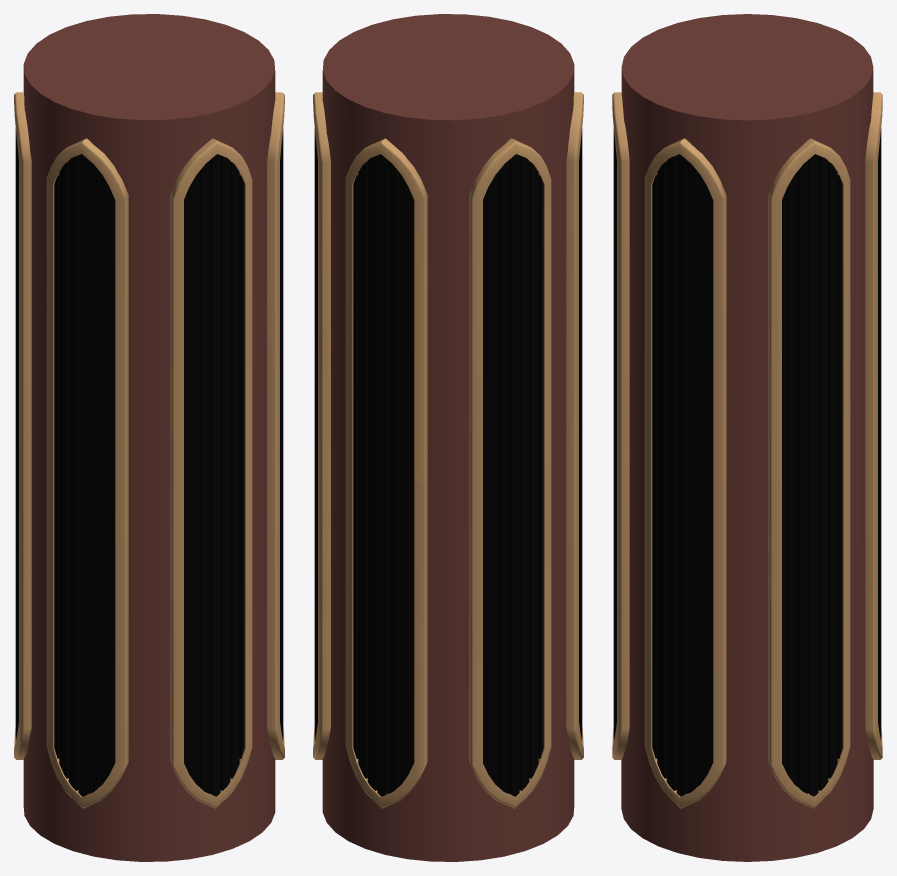
File: SM_Column_SM_Column_body.glb
3 renders of one model, left to right at view 1: azimuth 30°, elevation 25°; view 2: azimuth 150°, elevation 25°; view 3: azimuth 270°, elevation 25°, orthographic.
Visible parts, largest first — view 1: SM_Column_SM_Column_body; view 2: SM_Column_SM_Column_body; view 3: SM_Column_SM_Column_body.
Boxes of the visible parts, <box> form: SM_Column_SM_Column_body: <box>14,14,284,861</box>; SM_Column_SM_Column_body: <box>313,14,583,861</box>; SM_Column_SM_Column_body: <box>612,14,882,861</box>.
Bounding box in the file's own units: 1.2 × 3.69 × 1.22.
3 materials, 1 textured.
